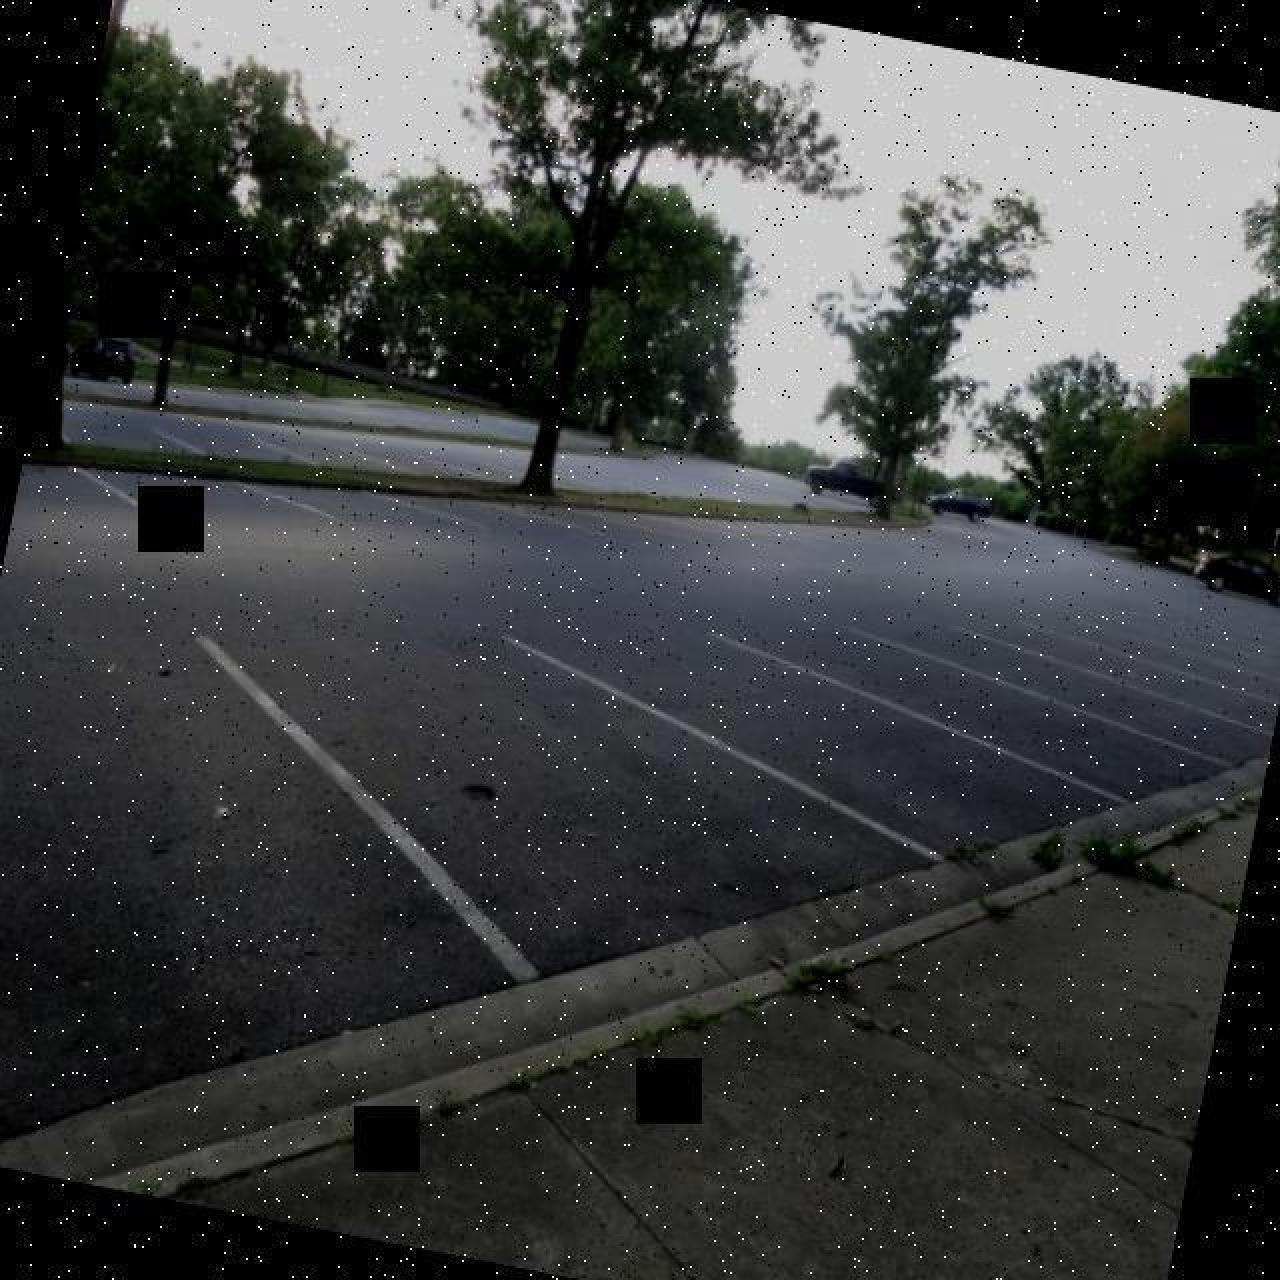empty: (208, 631, 955, 992), (0, 627, 538, 1127), (500, 634, 1147, 869), (714, 626, 1246, 814), (848, 620, 1274, 772), (943, 620, 1280, 742), (74, 468, 340, 521), (233, 483, 495, 532), (360, 493, 615, 540), (458, 497, 713, 542), (15, 461, 152, 507)
